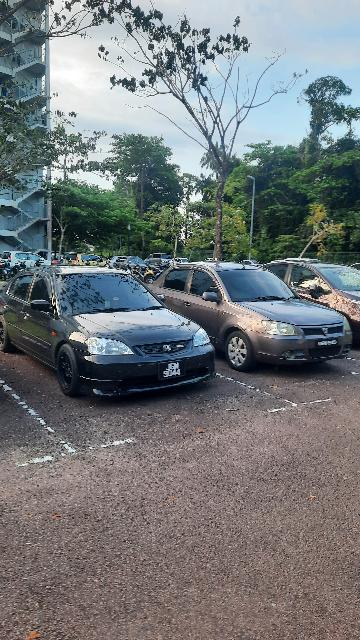License_Plate: (157, 360, 190, 382), (315, 337, 342, 350)
car: (2, 260, 223, 393), (147, 263, 359, 372)
